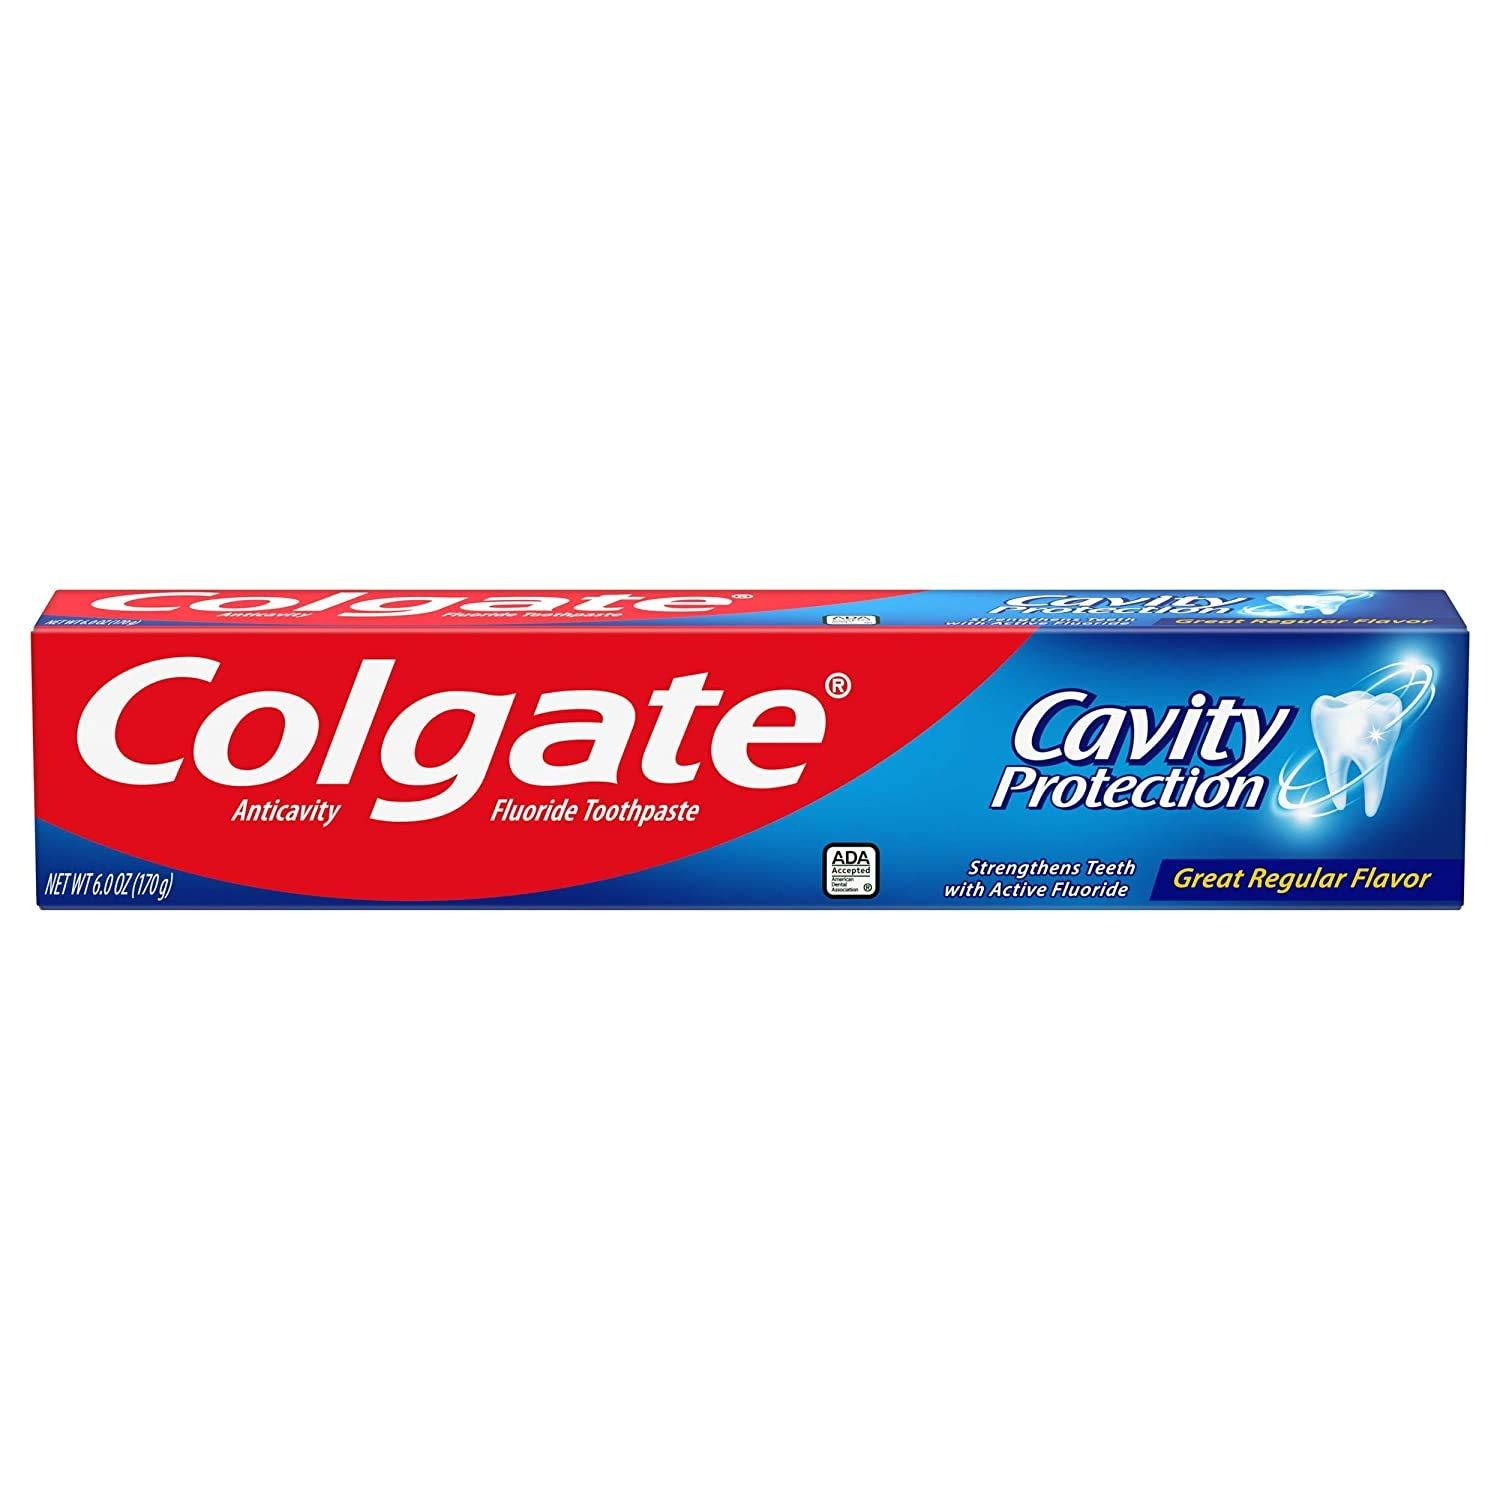Colgate: (23, 588, 1474, 919)
